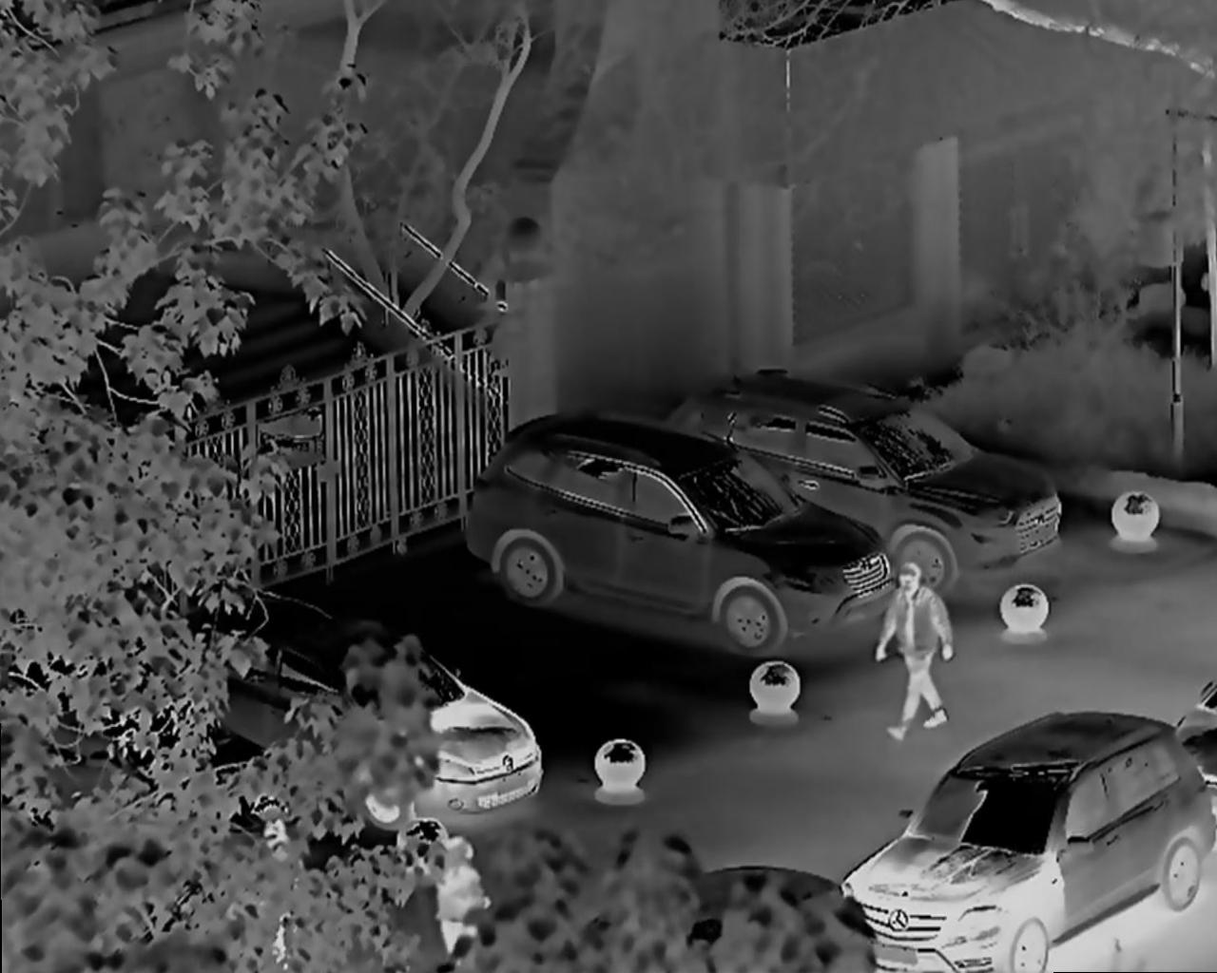person: (877, 549, 969, 726), (435, 835, 499, 966)
